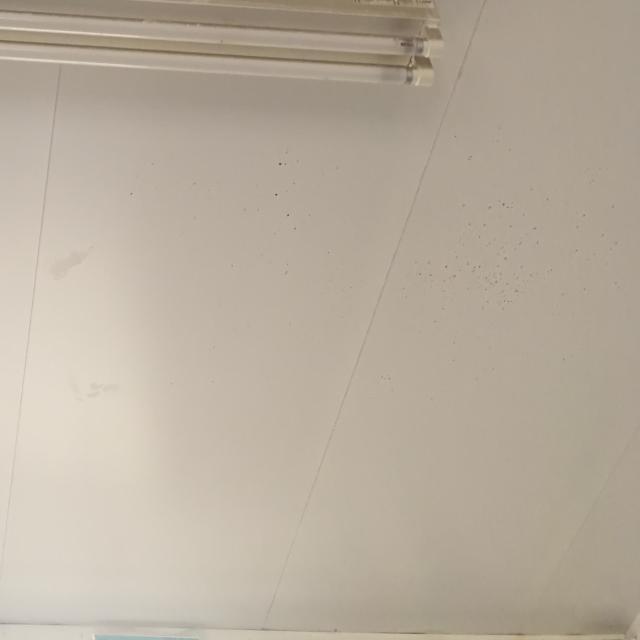fluorescent tube: (0, 0, 458, 134)
